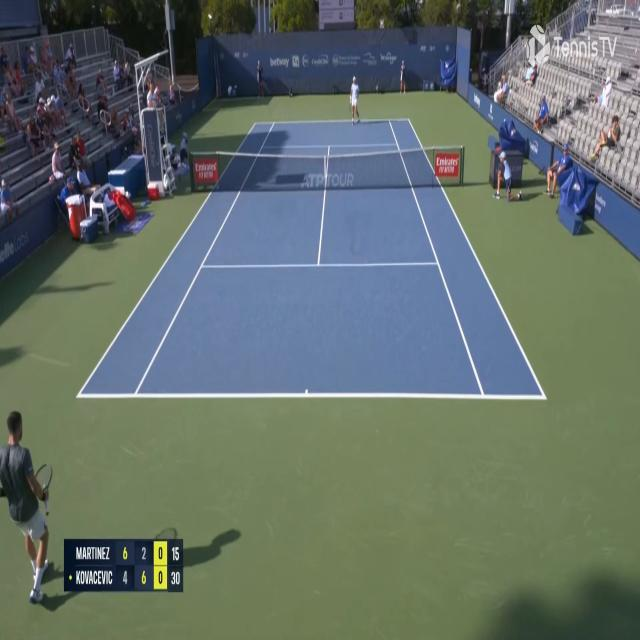tennis-player: (1, 405, 54, 605), (348, 74, 362, 124)
